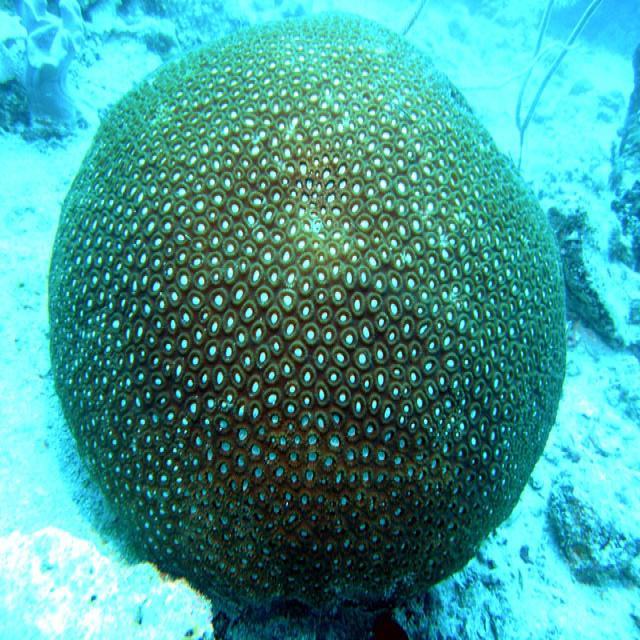Coral: (50, 19, 568, 612)
